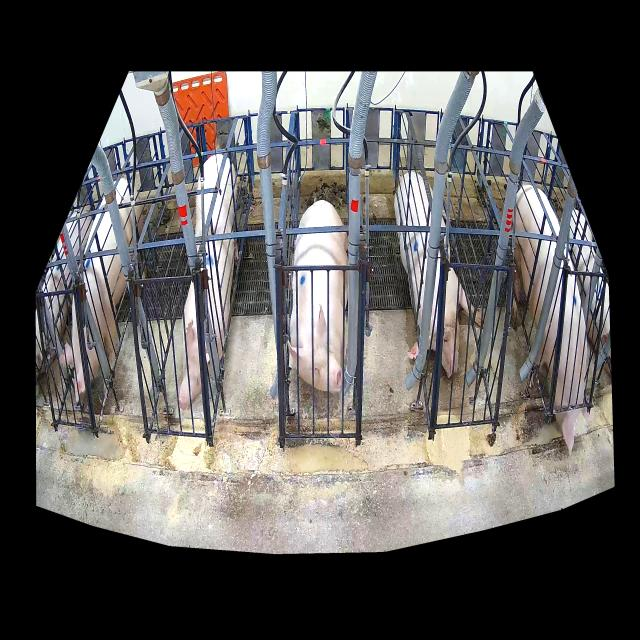pig: (512, 185, 594, 451), (395, 172, 482, 378), (65, 179, 143, 401), (179, 153, 238, 409), (289, 201, 348, 392)
